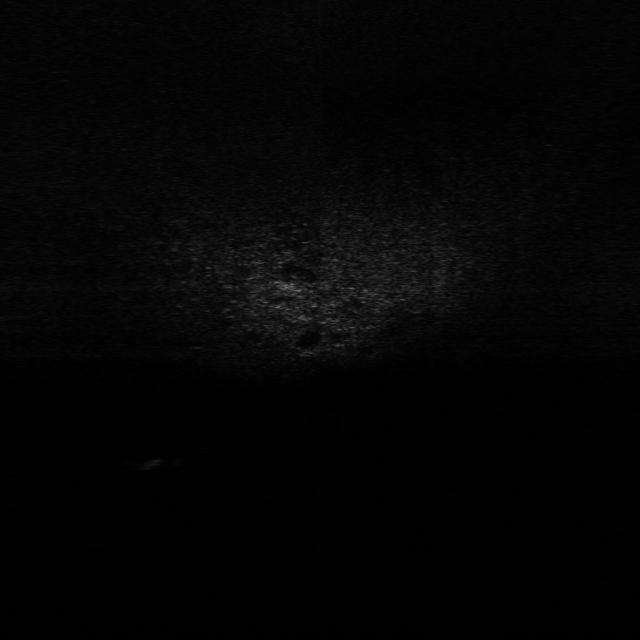cylinder: (136, 451, 170, 472)
